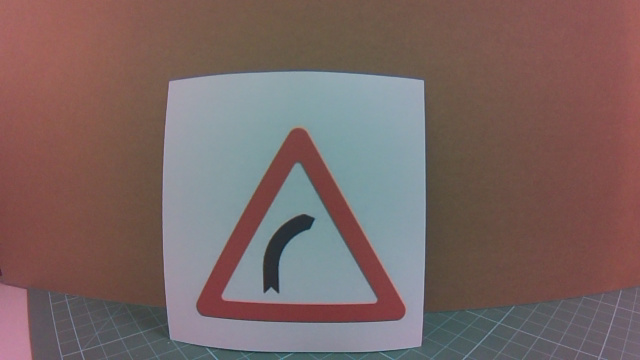right: (220, 152, 391, 328)
